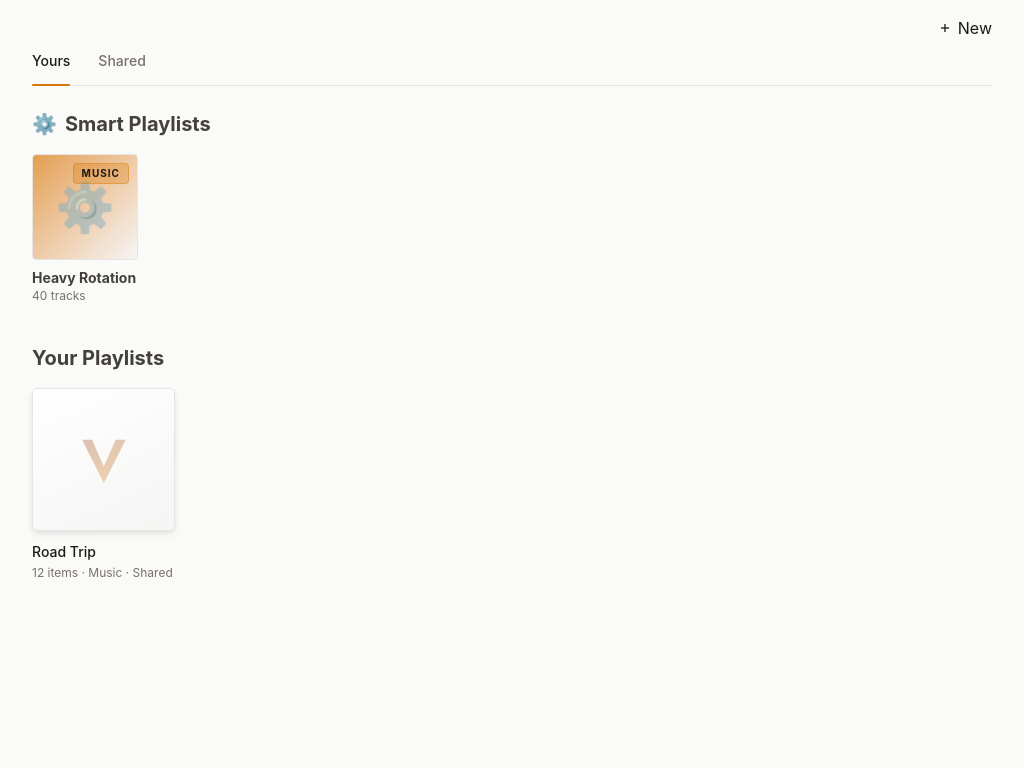
Test: PlaylistsPage › lists what others have shared, and says whose each one is
Expected: the text "Road Trip" is shown, [32,543,96,560]
Step 1. Click the tab "Shared" → (122, 63), box [98,41,146,85]
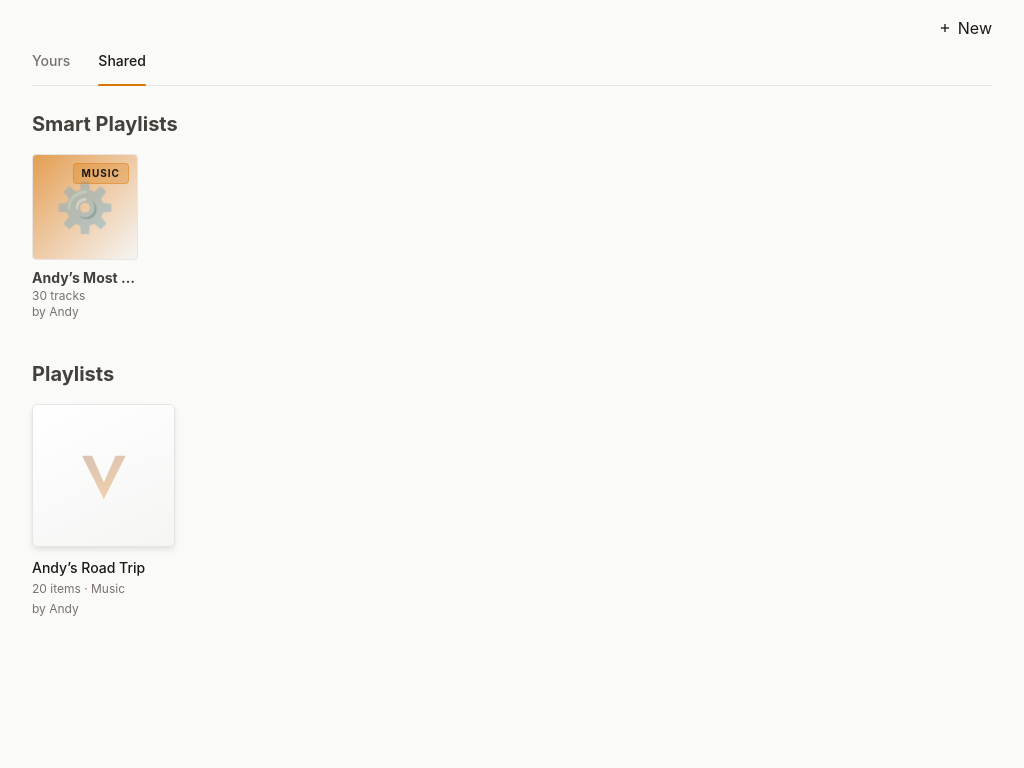
Now the text "Andy’s Road Trip" is shown, box [32,559,145,576]
Now the text "Andy’s Most Played" is shown, box [32,268,138,288]
Now the text "by Andy" is shown 2 times, box [32,304,79,319]; [32,601,79,616]
